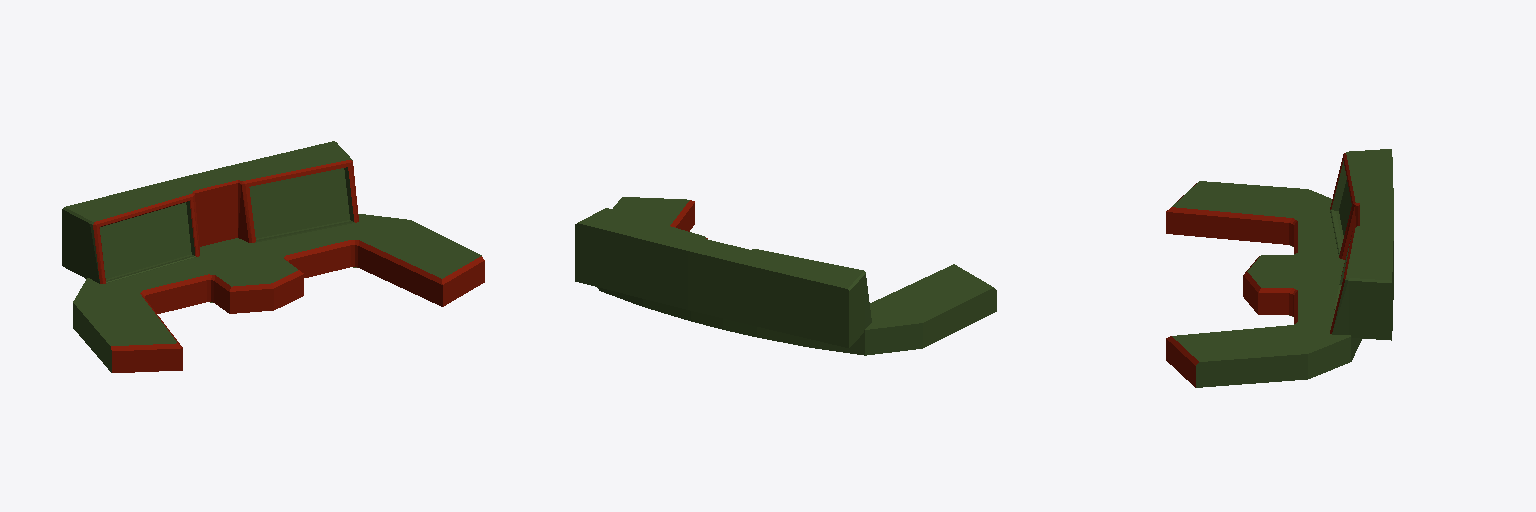
The model's file is stul.obj.
3 views of the same model, side by side, from view 1: azimuth 30°, elevation 25°; view 2: azimuth 150°, elevation 25°; view 3: azimuth 270°, elevation 25° (orthographic).
Visible parts, largest first — view 1: Cube, Cube.010; view 2: Cube.010, Cube; view 3: Cube, Cube.010.
Boxes of the visible parts, <box> form: Cube: <box>73,214,484,372</box>; Cube.010: <box>62,141,358,283</box>; Cube.010: <box>575,208,871,347</box>; Cube: <box>597,197,996,355</box>; Cube: <box>1166,181,1361,387</box>; Cube.010: <box>1330,149,1393,340</box>.
Size of the model in its own units: 15.69 by 3.31 by 8.31.